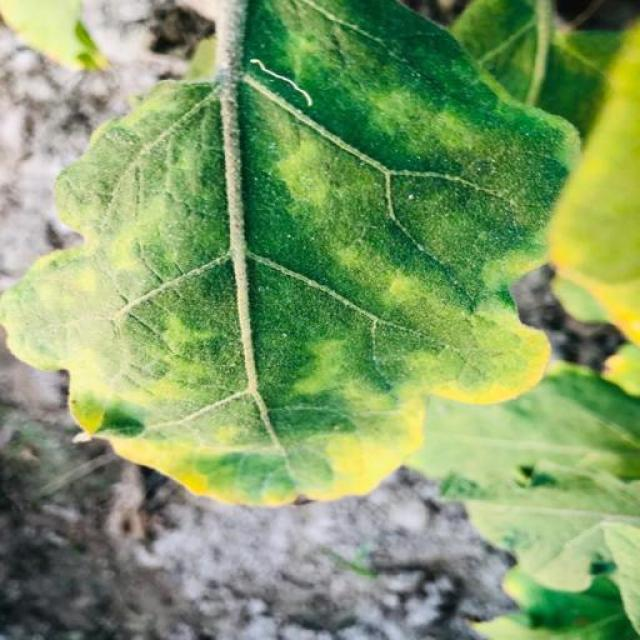leaf_spot: (588, 35, 640, 324), (329, 225, 452, 318), (477, 298, 547, 390), (135, 434, 235, 496), (275, 143, 355, 210), (314, 434, 402, 486), (64, 367, 152, 419), (258, 443, 270, 477)
